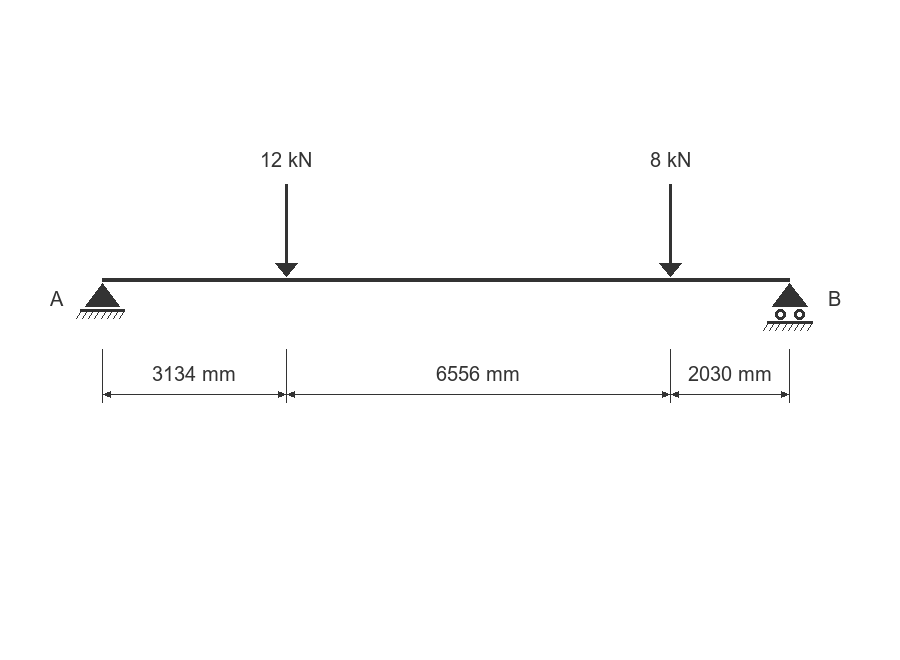pin_support: (76, 283, 125, 319)
point_load: (275, 184, 298, 277), (659, 184, 682, 277)
roller_support: (763, 283, 813, 331)
